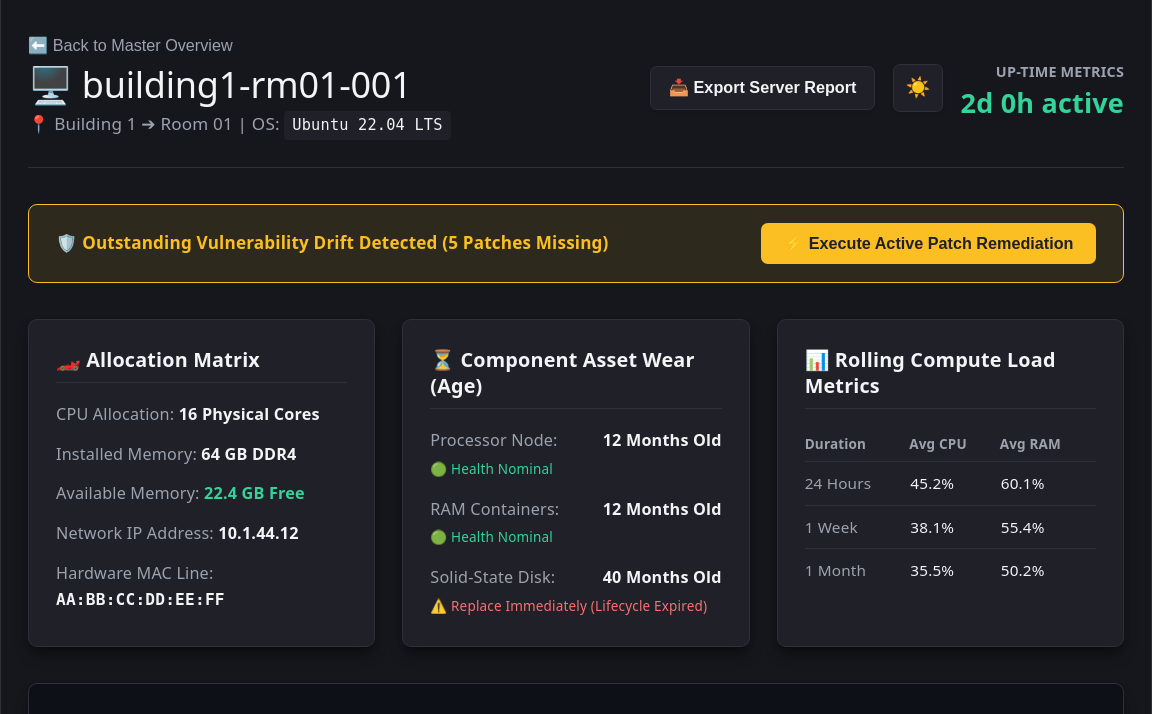
Test case: ServerDetail Component Suite › gracefully handles patch remediation failures and renders error logs inside the network catch block
# Fire the remediation trigger event
What coordinates should you click on to do the following:
click the button "⚡ Execute Active Patch Remediation"
I would click on:
 (929, 243)
Its box is [762, 223, 1096, 264].
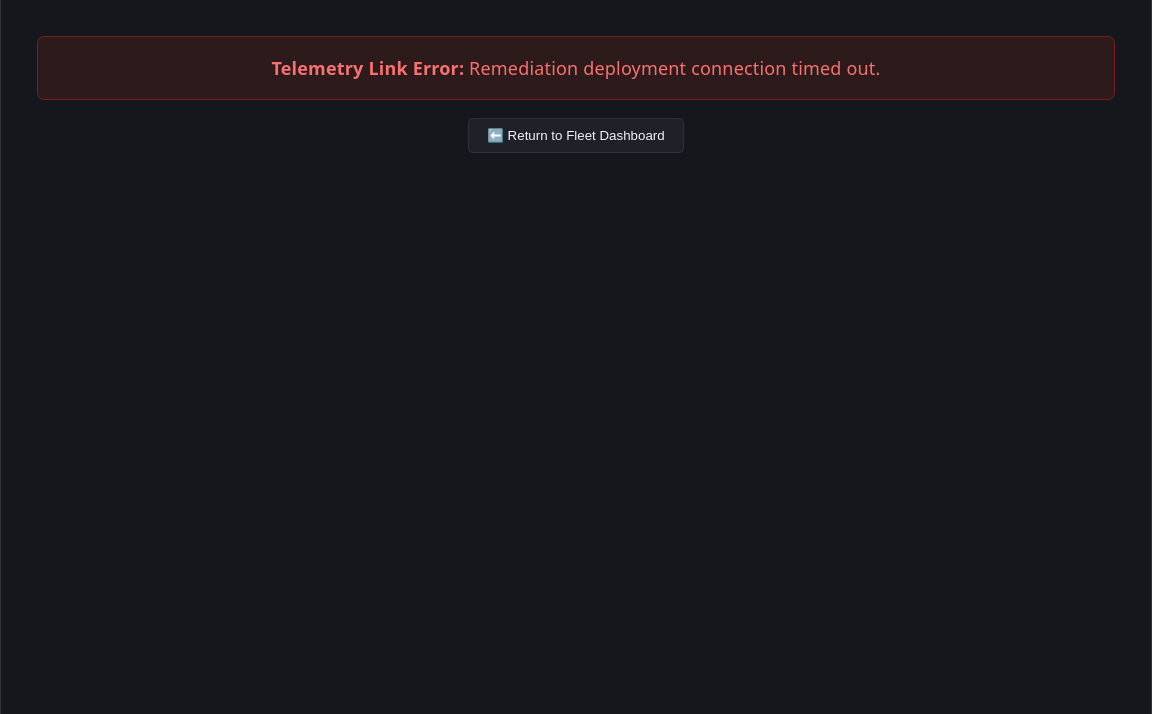
Now the text "Remediation deployment connection timed out." is shown, box [469, 56, 881, 80]
